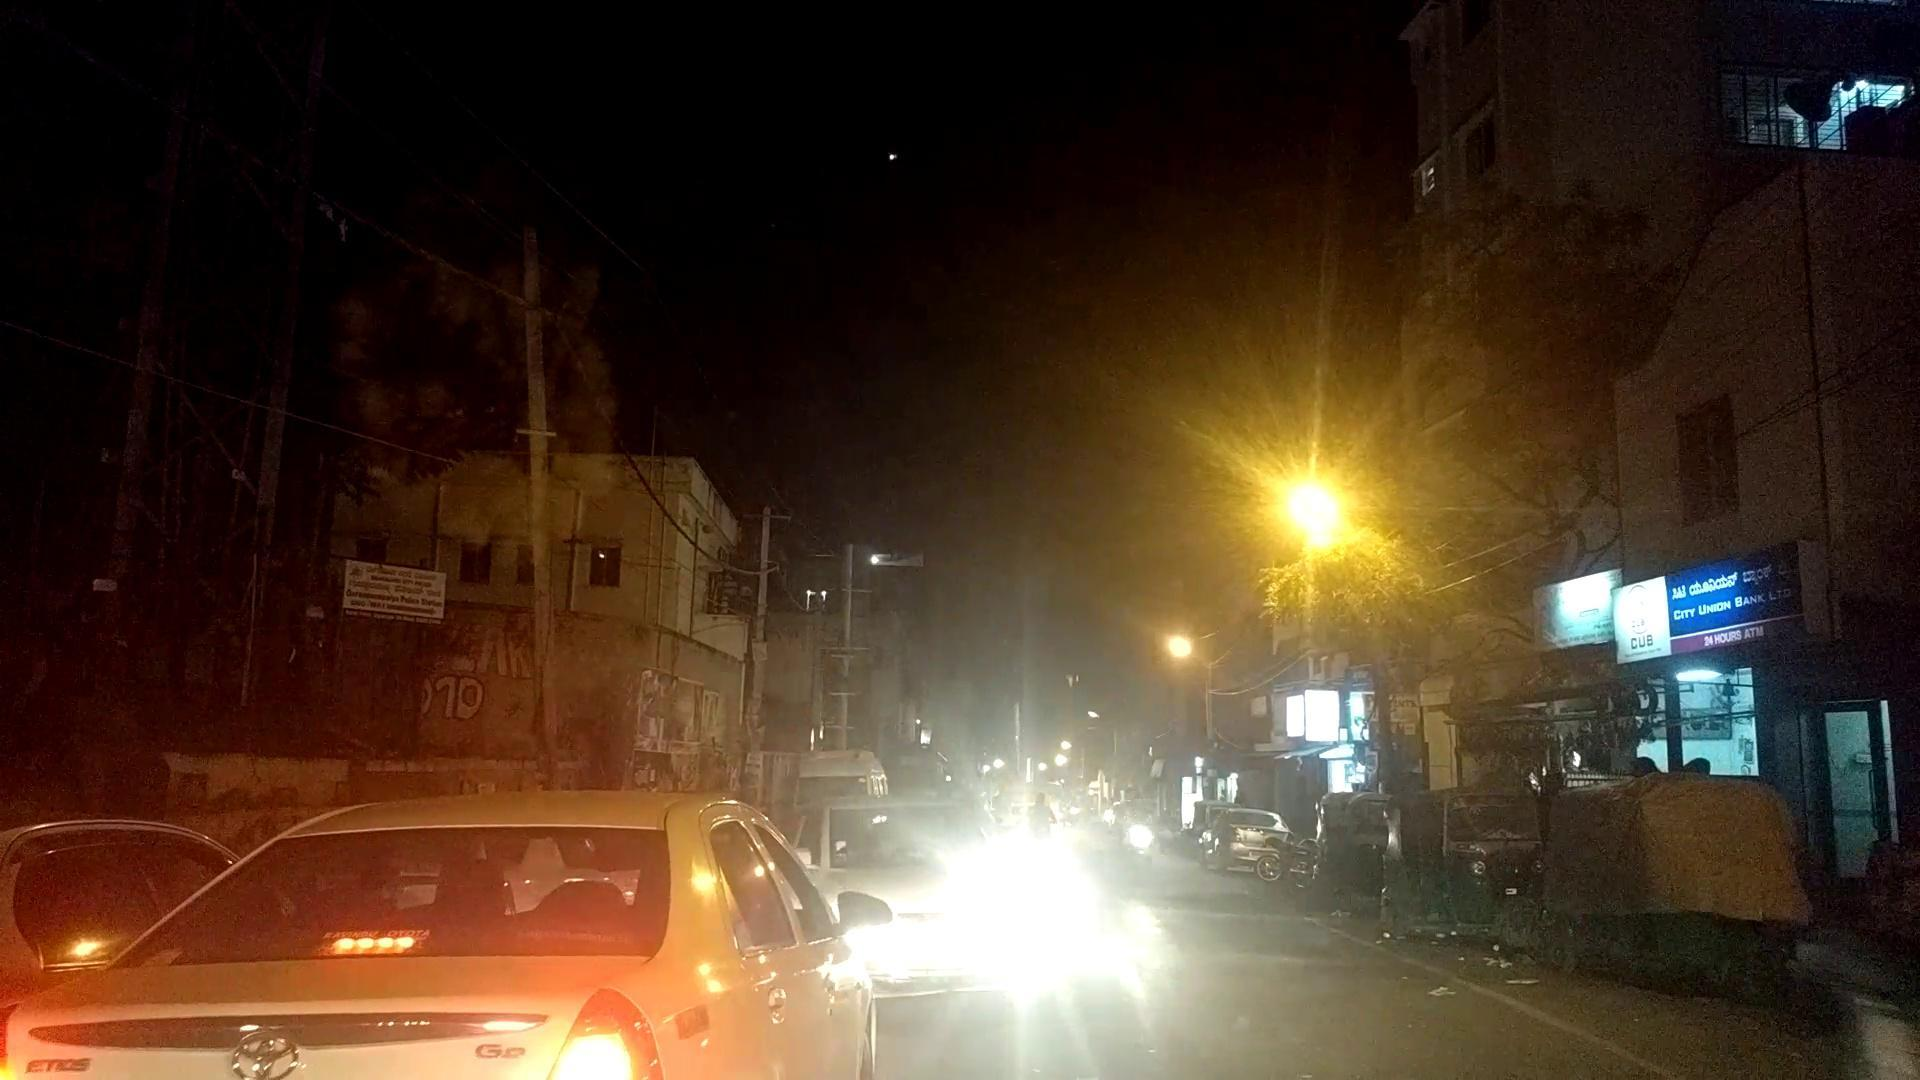on: (1120, 372, 1495, 636)
